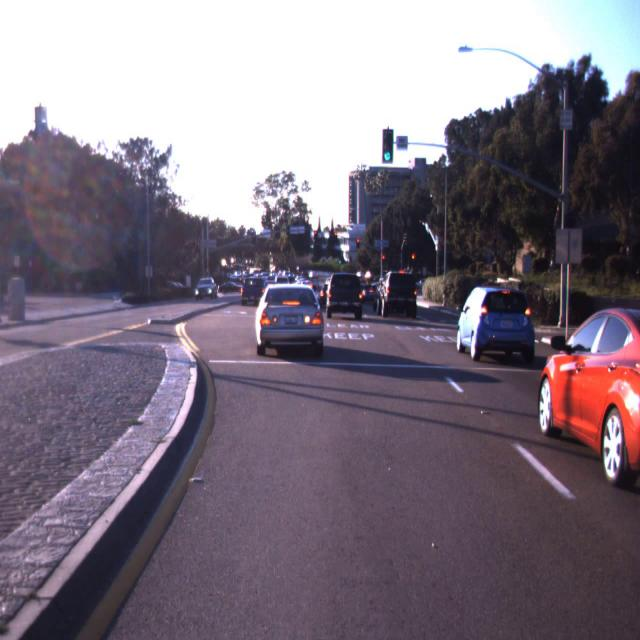kirmizi: (356, 238, 360, 249)
yesil: (382, 129, 394, 164)
